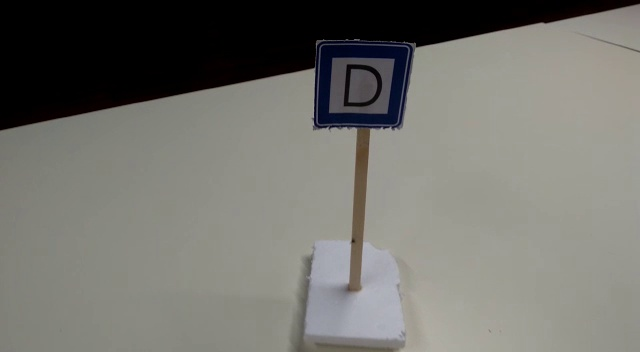durak: (314, 40, 411, 129)
